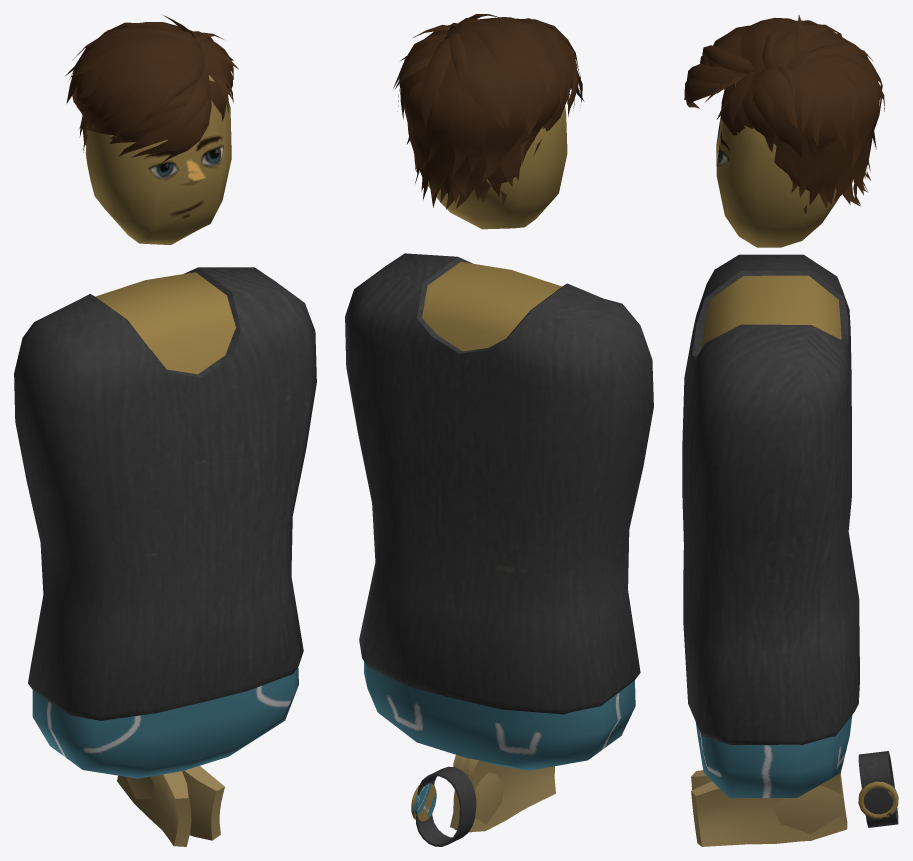
Rendered from Avatar4.fbx.
3 views of the same model, side by side, from view 1: azimuth 30°, elevation 25°; view 2: azimuth 150°, elevation 25°; view 3: azimuth 270°, elevation 25° (orthographic). The views are drawn at different scales.
Parts seen in each view (by area): view 1: Body4, Hair4, Head4, HandL, HandR; view 2: Body4, Hair4, Head4, HandL, Watch, HandR; view 3: Body4, Hair4, Head4, HandR, Watch, HandL.
Boxes of the visible parts, x1=… form: Body4: x1=14, y1=267, x2=316, y2=778; Hair4: x1=65, y1=15, x2=238, y2=162; Head4: x1=85, y1=75, x2=231, y2=244; HandL: x1=117, y1=771, x2=191, y2=846; HandR: x1=125, y1=766, x2=224, y2=840; Body4: x1=345, y1=253, x2=653, y2=770; Hair4: x1=393, y1=14, x2=584, y2=209; Head4: x1=428, y1=106, x2=567, y2=229; HandL: x1=453, y1=757, x2=555, y2=832; Watch: x1=411, y1=766, x2=476, y2=846; HandR: x1=450, y1=755, x2=504, y2=832; Body4: x1=682, y1=254, x2=859, y2=797; Hair4: x1=684, y1=15, x2=884, y2=214; Head4: x1=716, y1=82, x2=839, y2=247; HandR: x1=691, y1=773, x2=847, y2=846; Watch: x1=858, y1=751, x2=898, y2=827; HandL: x1=691, y1=770, x2=847, y2=841.
Bounding box in the file's own units: 0.4553 × 1.28 × 0.307.
3 materials, 1 textured.
